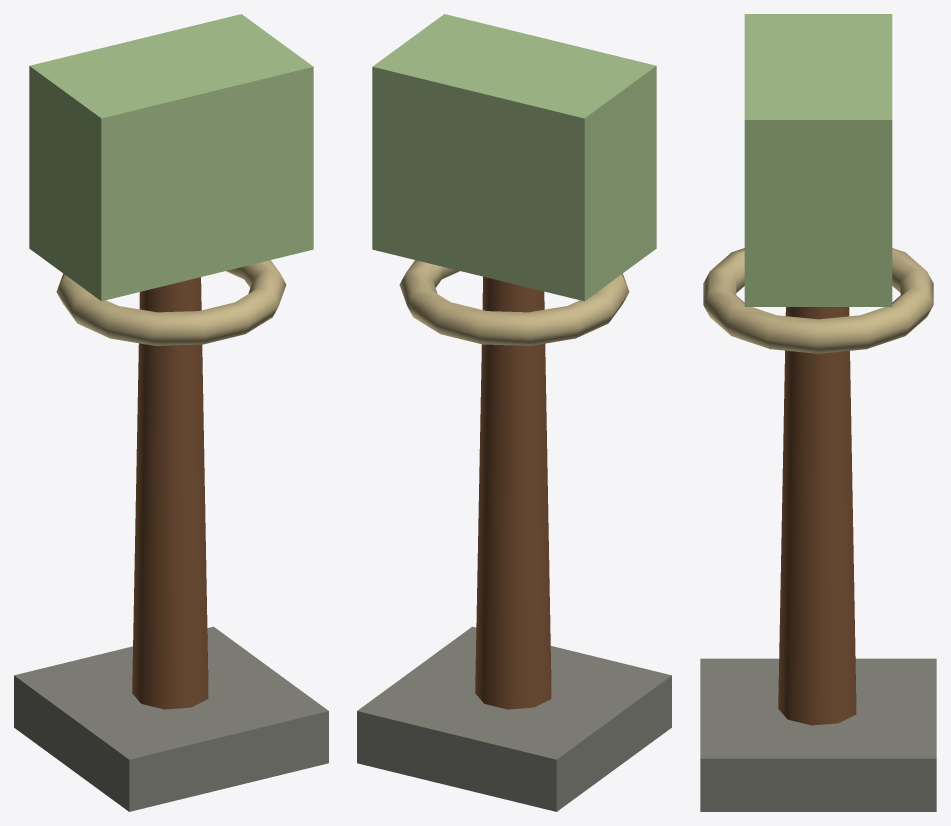
File: music_stand.glb
The picture shows the model from 3 angles, left to right: view 1: azimuth 30°, elevation 25°; view 2: azimuth 150°, elevation 25°; view 3: azimuth 270°, elevation 25°; orthographic projection. The views are drawn at different scales.
Visible parts, largest first — view 1: head, base, post, detail_ring; view 2: head, base, post, detail_ring; view 3: head, base, post, detail_ring.
Part boxes in pixels (bbox=[...]): head: bbox=[29, 14, 313, 301]; base: bbox=[14, 626, 328, 811]; post: bbox=[132, 277, 208, 709]; detail_ring: bbox=[56, 260, 286, 345]; head: bbox=[372, 14, 656, 301]; base: bbox=[357, 626, 671, 811]; post: bbox=[475, 276, 551, 709]; detail_ring: bbox=[399, 260, 629, 345]; head: bbox=[744, 14, 892, 306]; base: bbox=[700, 658, 936, 811]; post: bbox=[778, 307, 856, 725]; detail_ring: bbox=[703, 248, 933, 353].
Size of what is drawn, in the model's own units: 0.85 by 2.6 by 0.8.
